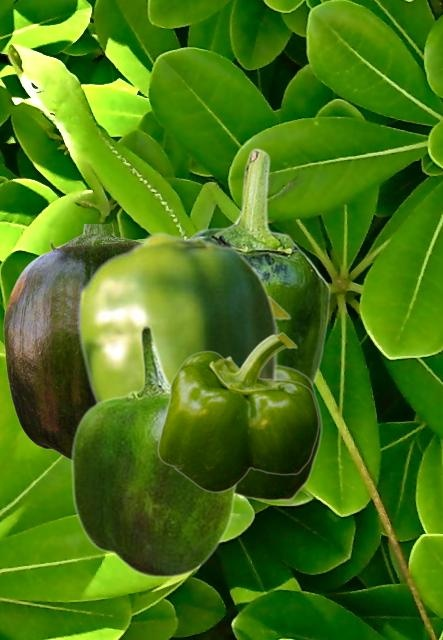bell_pepper: (70, 324, 240, 578), (77, 231, 278, 403), (190, 147, 329, 384), (3, 224, 139, 459), (157, 332, 318, 492), (236, 296, 321, 503)
